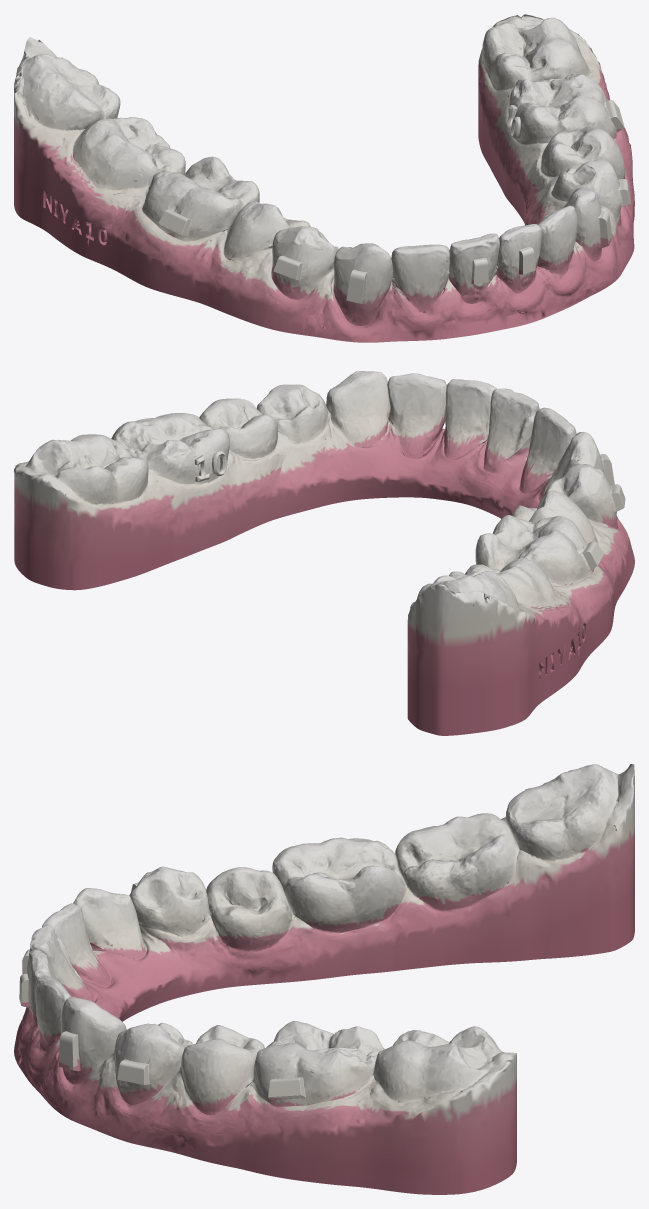
File: Niya Priority Lower jaw - 10 - Model.glb
The picture shows the model from 3 angles, top to bottom: view 1: azimuth 30°, elevation 25°; view 2: azimuth 150°, elevation 25°; view 3: azimuth 270°, elevation 25°; orthographic projection. The views are drawn at different scales.
Visible parts, largest first — view 1: Niya Priority Lower jaw - 10 - Model; view 2: Niya Priority Lower jaw - 10 - Model; view 3: Niya Priority Lower jaw - 10 - Model.
Boxes of the visible parts, x1,y1,x2,y2 form: Niya Priority Lower jaw - 10 - Model: (14, 14, 634, 342); Niya Priority Lower jaw - 10 - Model: (14, 371, 634, 735); Niya Priority Lower jaw - 10 - Model: (14, 764, 634, 1194).
Bounding box in the file's own units: 62.72 × 16.53 × 56.55.
